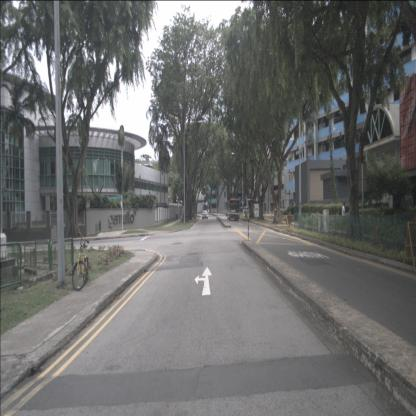human-pedestrian-adult: (342, 202, 346, 227)
vehicle-bicycle: (71, 232, 91, 292)
vehicle-bus-rigid: (225, 199, 240, 221), (242, 206, 250, 213)
vehicle-car: (202, 210, 209, 219)
